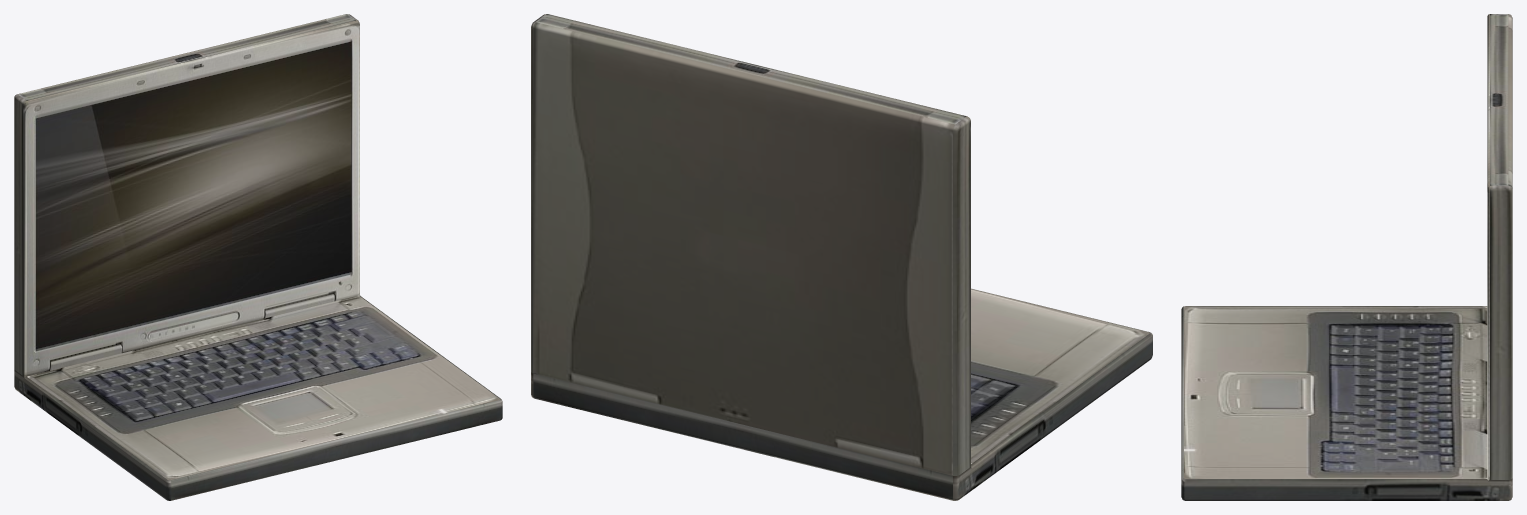
The model's file is Laptop.fbx.
3 renders of one model, left to right at view 1: azimuth 30°, elevation 25°; view 2: azimuth 150°, elevation 25°; view 3: azimuth 270°, elevation 25°, orthographic. The views are drawn at different scales.
Parts seen in each view (by area): view 1: Laptop; view 2: Laptop; view 3: Laptop.
Part boxes in pixels (x1,y1,x2,y2): Laptop: (14,14,502,500); Laptop: (531,14,1152,500); Laptop: (1181,14,1512,500).
Size of the model in its own units: 0.3418 by 0.2871 by 0.2734.
